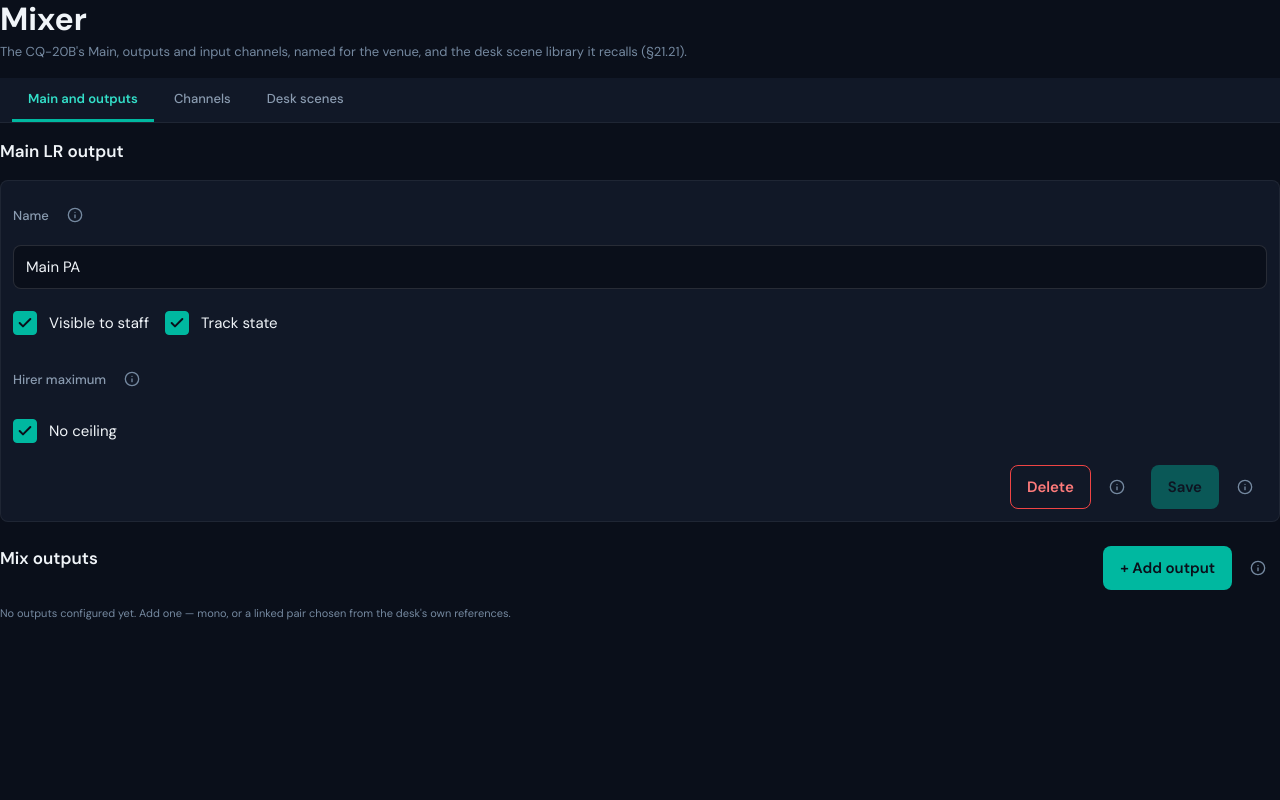
it: MixerScreen › shows the Main channel's delete refusal rather than silently failing (§21.21, main_immutable)
The image size is (1280, 800).
Expected: the heading "Main LR output" is shown, [0,140,124,162]
Click the button "Delete" at [1050, 487], box [1010,465,1091,509]
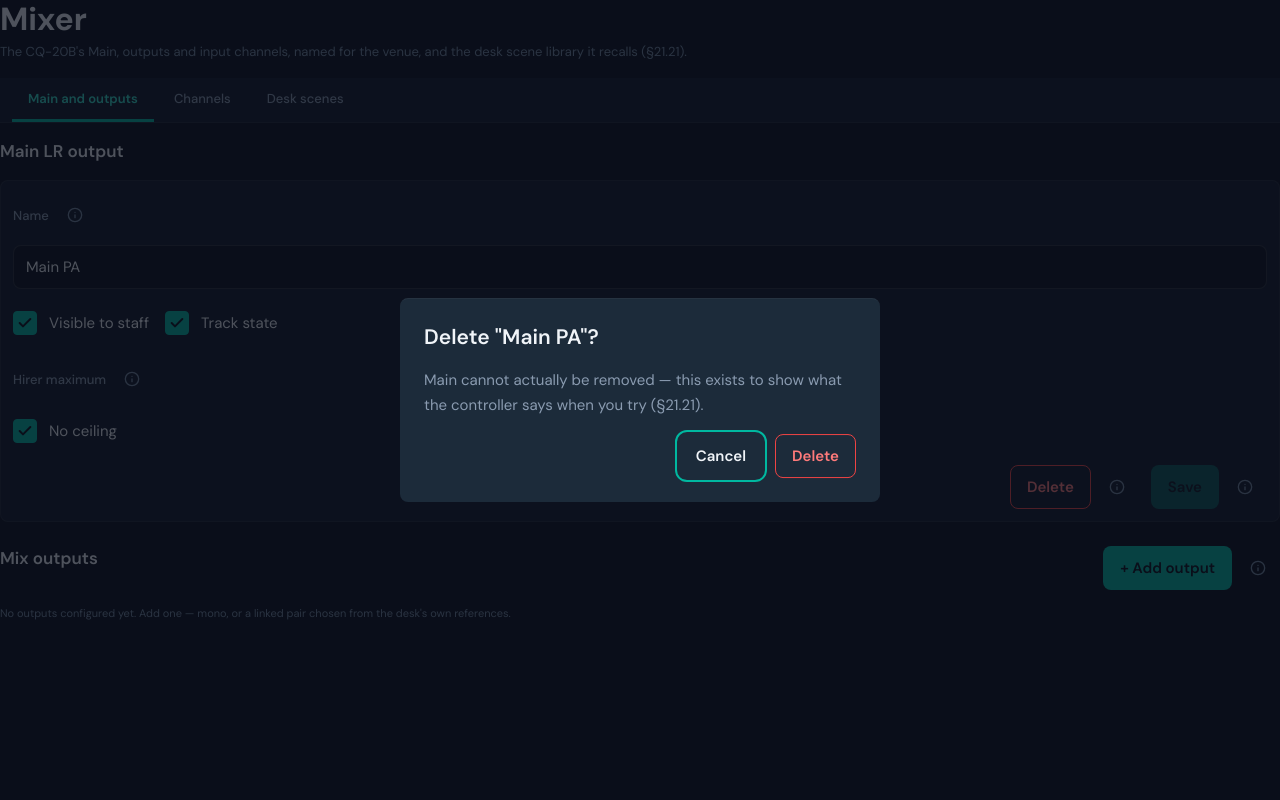
Click the button "Delete" at [816, 456], box [775,434,856,478]
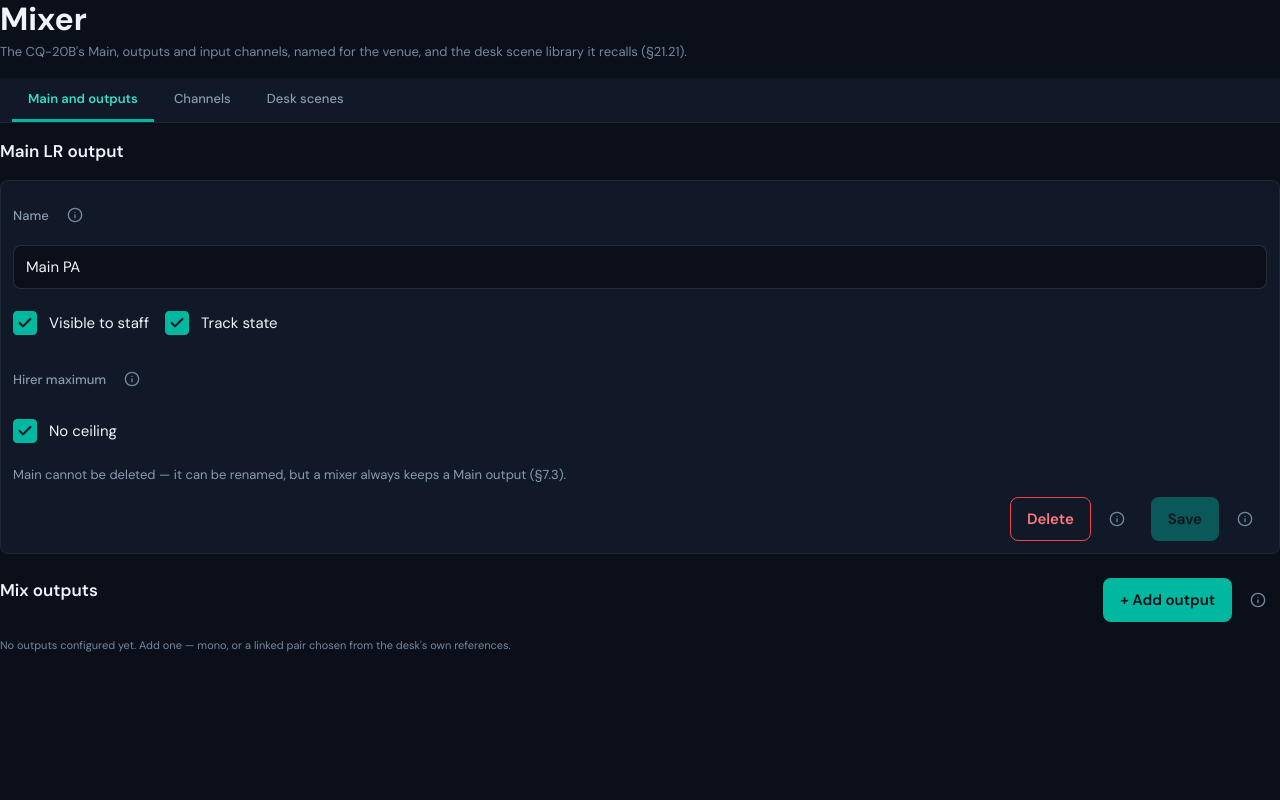
Expected: the text "Main cannot be deleted — it can be renamed" is shown, [13,466,566,483]
